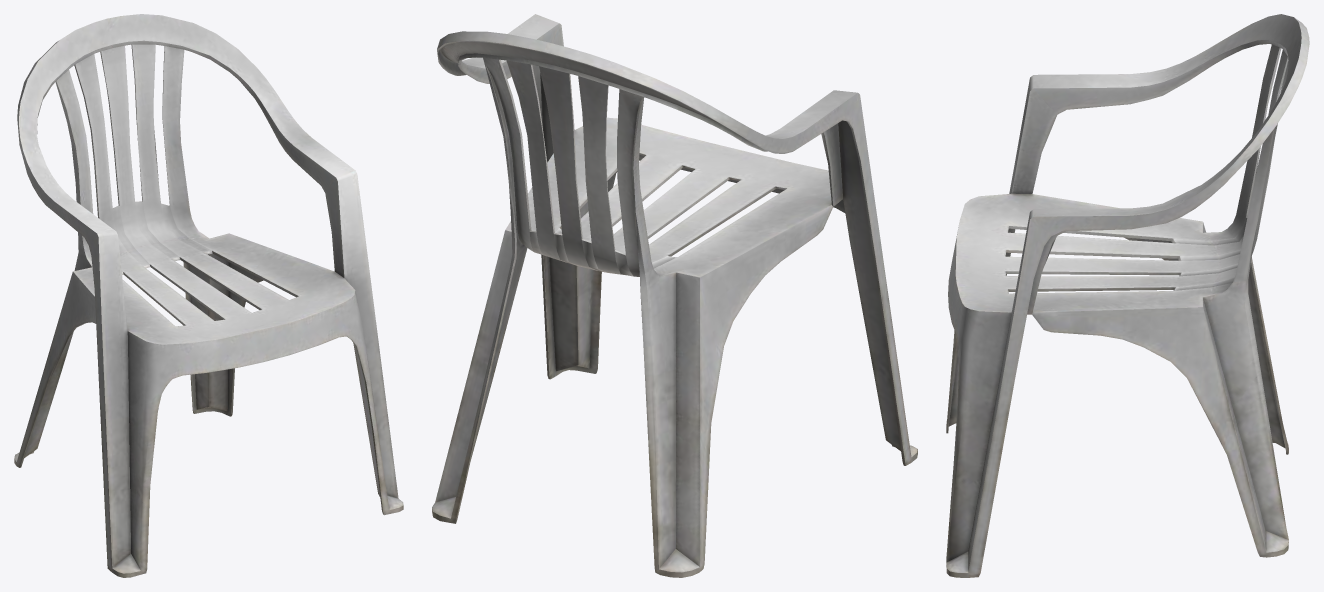
Rendered from plastic_monobloc_chair_01.glb.
3 views of the same model, side by side, from view 1: azimuth 30°, elevation 25°; view 2: azimuth 150°, elevation 25°; view 3: azimuth 270°, elevation 25° (orthographic). The views are drawn at different scales.
Visible parts, largest first — view 1: plastic_monobloc_chair_01; view 2: plastic_monobloc_chair_01; view 3: plastic_monobloc_chair_01.
Part boxes in pixels (bbox=[...]): plastic_monobloc_chair_01: bbox=[14, 14, 403, 577]; plastic_monobloc_chair_01: bbox=[432, 14, 917, 577]; plastic_monobloc_chair_01: bbox=[946, 14, 1309, 577].
Size of the model in its own units: 0.6419 by 0.8798 by 0.6276.
1 material, 1 textured.
